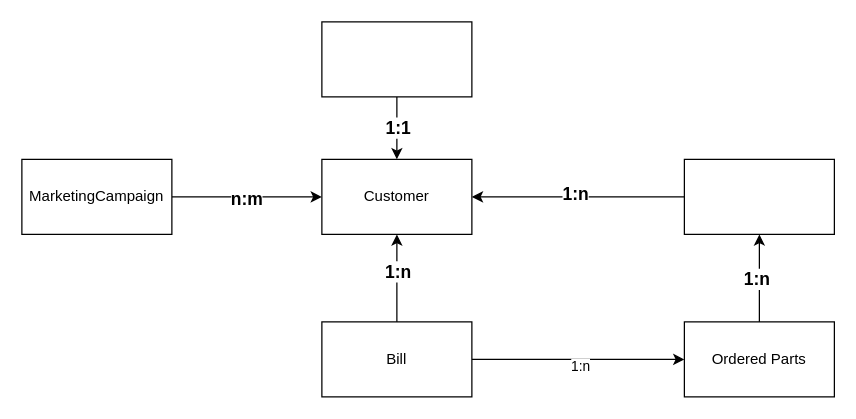
This 856x419 diagram has some shape labels left out. Each missing label, with the box of its shape:
Address: (321, 21, 472, 97)
Order: (683, 158, 834, 234)
